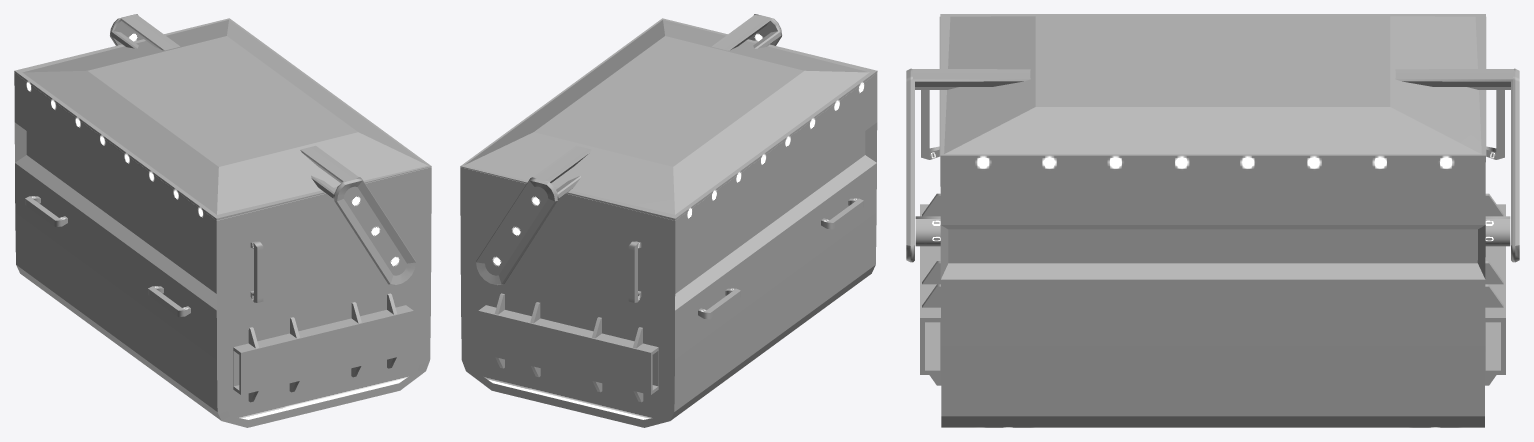
The model's file is KF_SM_TrashContainer.fbx.
3 views of the same model, side by side, from view 1: azimuth 30°, elevation 25°; view 2: azimuth 150°, elevation 25°; view 3: azimuth 270°, elevation 25° (orthographic). The views are drawn at different scales.
Parts seen in each view (by area): view 1: Container, Lid; view 2: Container, Lid; view 3: Container, Lid.
Part boxes in pixels (x1,y1,x2,y2): Container: (14,18,431,427); Lid: (22,14,431,285); Container: (460,18,877,427); Lid: (461,14,869,285); Container: (915,14,1510,427); Lid: (906,16,1519,262).
Bounding box in the file's own units: 342 × 593 × 338.
